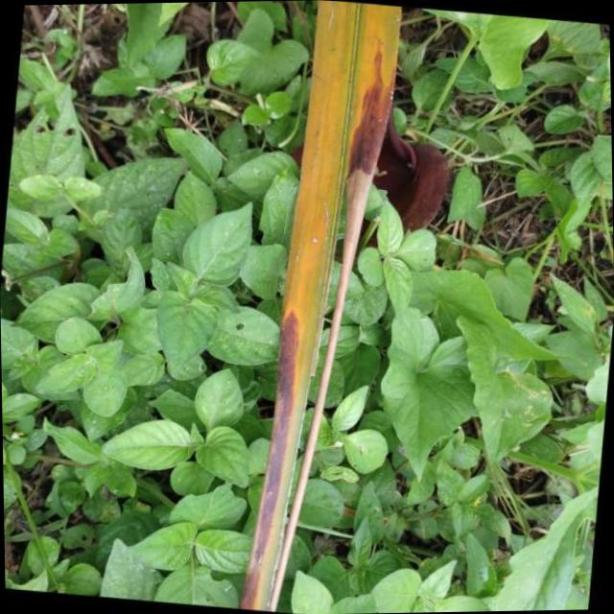Megnesium: (242, 0, 404, 614)
